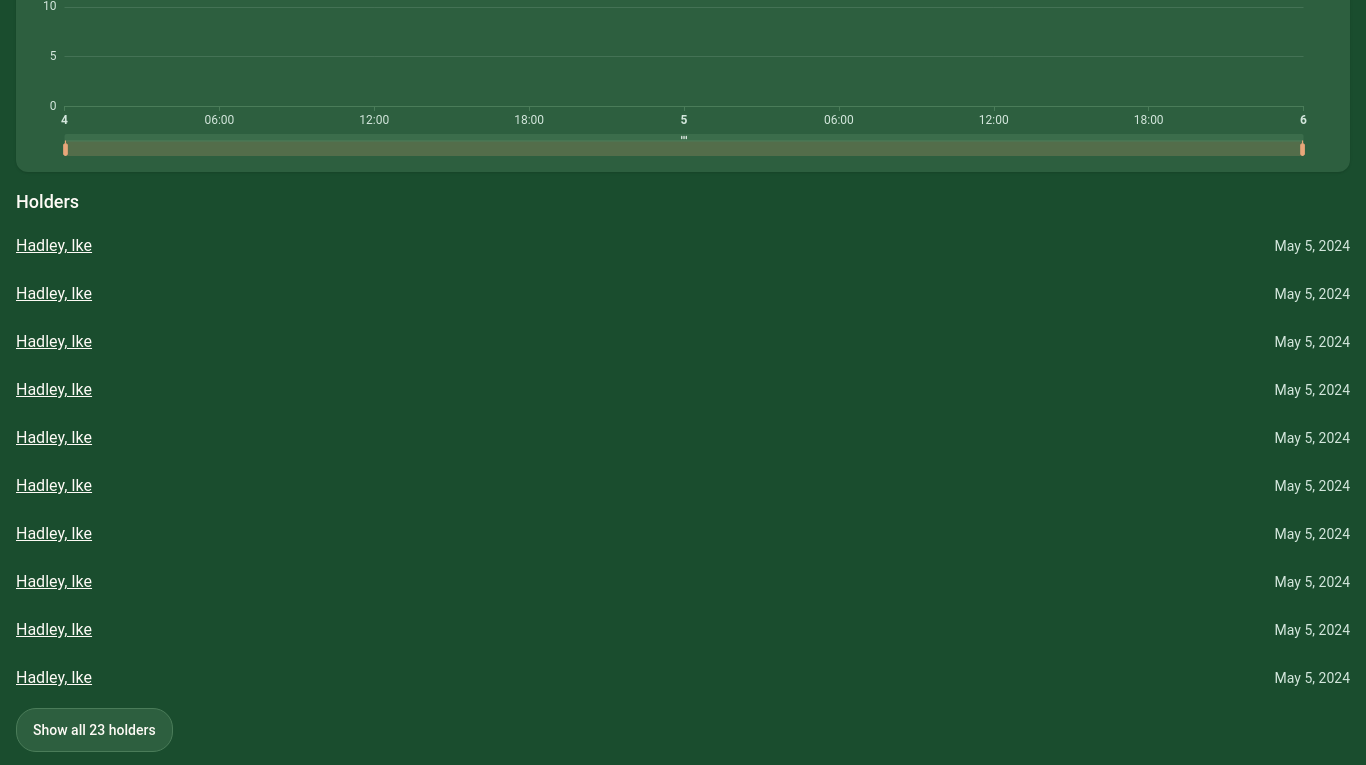
Test case: TrophyDetailPage › shows 10 holders, then every one after "Show all N"
(page scrolled)
Click the button "Show all 23 holders" at (94, 730), box [16, 708, 173, 752]
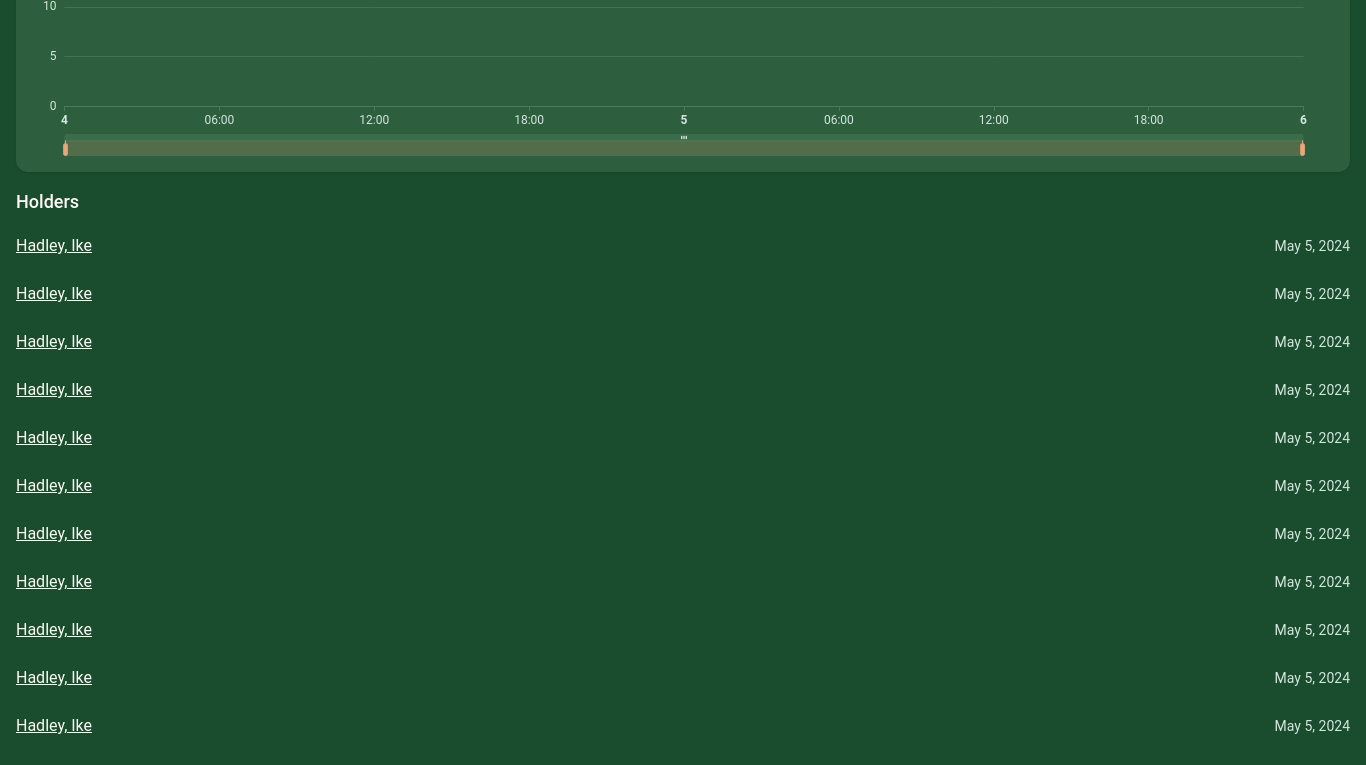
Expected: the button "Show all" is gone
